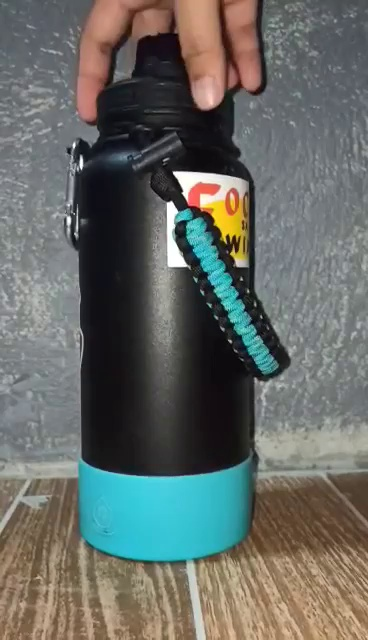hand: (75, 2, 268, 126)
tumbler: (63, 40, 295, 567)
